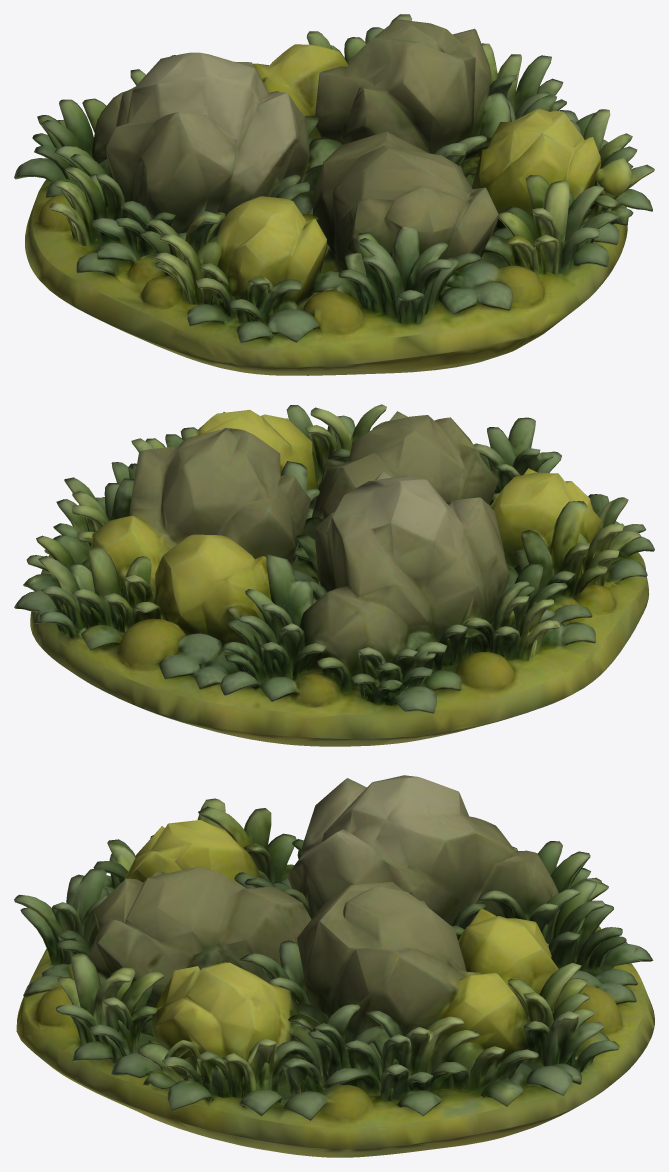
File: grass.glb
The picture shows the model from 3 angles, top to bottom: view 1: azimuth 30°, elevation 25°; view 2: azimuth 150°, elevation 25°; view 3: azimuth 270°, elevation 25°; orthographic projection. The views are drawn at different scales.
Parts seen in each view (by area): view 1: node_0; view 2: node_0; view 3: node_0.
Part boxes in pixels (x1,y1,x2,y2): node_0: (14, 14, 654, 375); node_0: (14, 404, 654, 746); node_0: (14, 775, 654, 1157).
Size of the model in its own units: 1.1 by 0.4805 by 1.1.
Materials: 1 (1 with a texture image).
